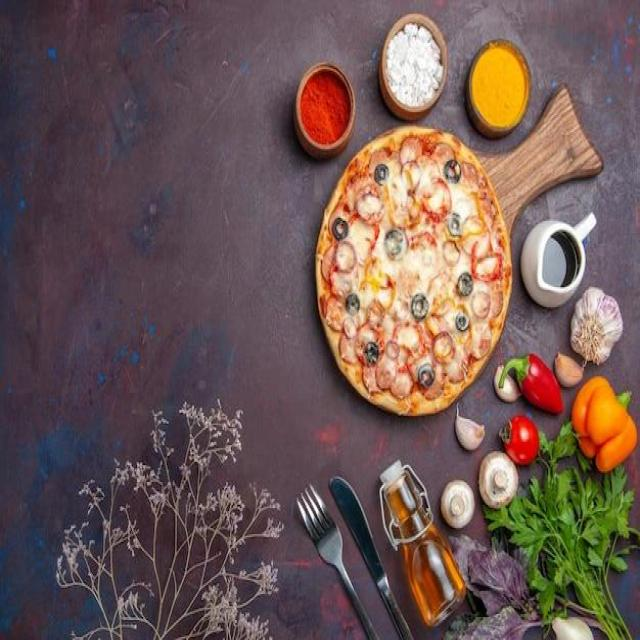basil: (485, 422, 640, 640)
olive: (384, 230, 408, 262), (458, 269, 474, 298), (411, 294, 428, 319), (418, 364, 434, 388), (445, 160, 461, 183), (345, 291, 360, 314), (375, 164, 390, 186), (455, 312, 470, 333), (333, 218, 347, 240), (366, 343, 381, 363)
pepperoni: (415, 364, 446, 398), (386, 365, 416, 398), (416, 156, 440, 197), (468, 316, 490, 358), (431, 332, 456, 366), (431, 144, 456, 178), (396, 139, 425, 167), (320, 245, 339, 283), (376, 358, 396, 393), (324, 293, 342, 331), (334, 244, 356, 272), (330, 271, 350, 299), (338, 334, 357, 363), (470, 292, 489, 320), (462, 163, 479, 194), (362, 364, 378, 396), (489, 286, 503, 322), (449, 358, 465, 383), (341, 316, 357, 337), (386, 342, 399, 361)
pizza: (316, 120, 514, 418)
